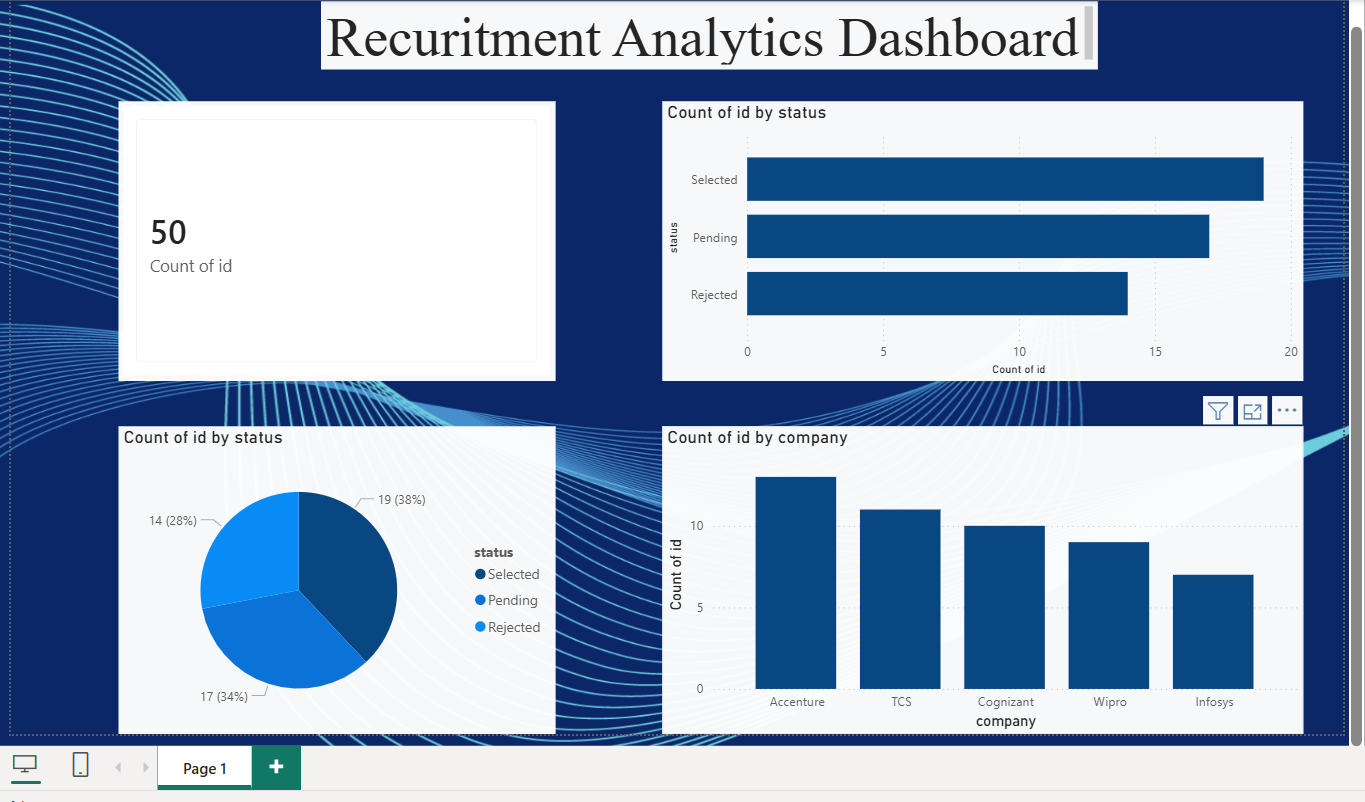

Layout of this report page (visuals, bound fields, positions):
{"tool":"powerbi","page":{"name":"Page 1","canvas":[1280,720],"ordinal":0},"visuals":[{"type":"cardVisual","fields":{"Data":["CountNonNull(recruitment_data.id)"]},"box":[102.9,111.1,419.9,269],"z":0},{"type":"pieChart","fields":{"Category":["recruitment_data.status"],"Y":["CountNonNull(recruitment_data.id)"]},"box":[102.9,424,419.9,296.4],"z":1},{"type":"clusteredBarChart","fields":{"Category":["recruitment_data.status"],"Y":["CountNonNull(recruitment_data.id)"]},"box":[625.7,111.1,616.1,269],"z":2},{"type":"clusteredColumnChart","fields":{"Category":["recruitment_data.company"],"Y":["CountNonNull(recruitment_data.id)"]},"box":[625.7,424,616.1,296.4],"z":3},{"type":"textbox","box":[297.8,15.1,746.5,65.9],"z":4}]}

Visuals, with their boxes in screenshot pixels (x1, y1, x2, y2):
cardVisual - CountNonNull(recruitment_data.id): [108, 96, 550, 378]
pieChart - recruitment_data.status x CountNonNull(recruitment_data.id): [108, 425, 550, 736]
clusteredBarChart - recruitment_data.status x CountNonNull(recruitment_data.id): [658, 96, 1306, 378]
clusteredColumnChart - recruitment_data.company x CountNonNull(recruitment_data.id): [658, 425, 1306, 736]
textbox: [313, 0, 1098, 64]
